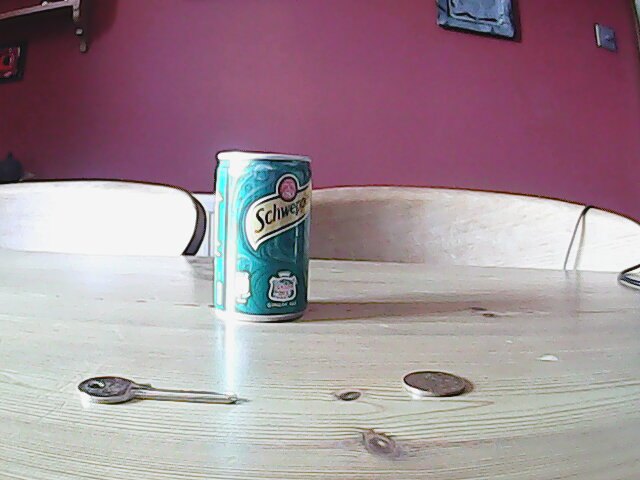Can: (210, 147, 313, 327)
Coin: (400, 369, 466, 402)
Key: (77, 372, 242, 408)
